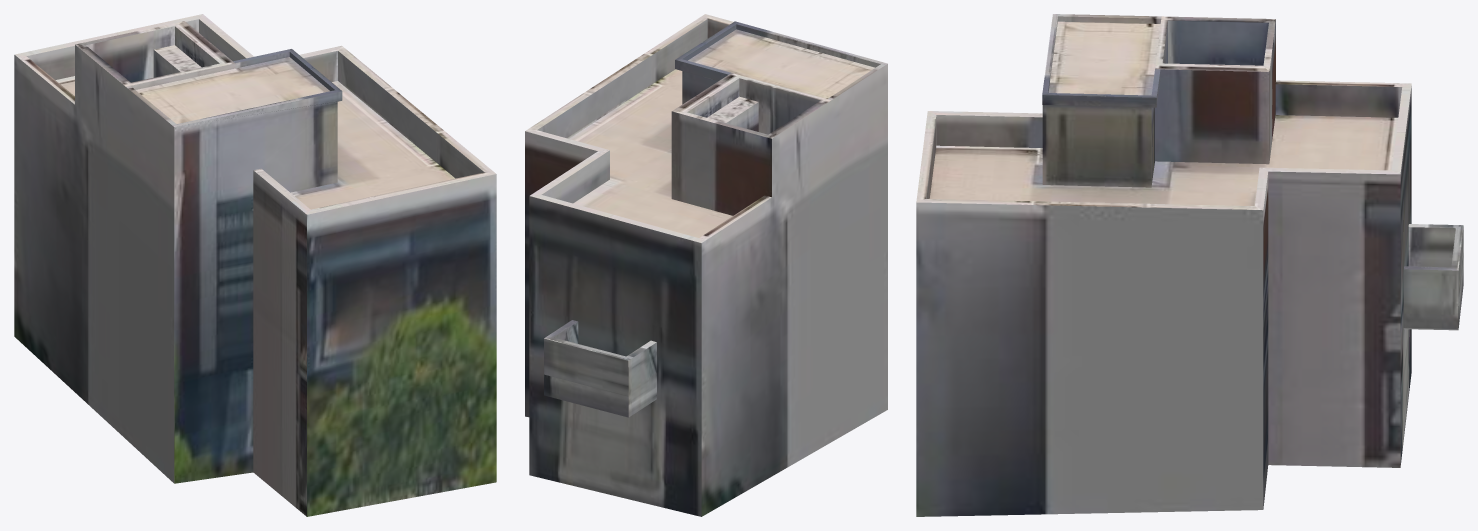
3 views of the same model, side by side, from view 1: azimuth 30°, elevation 25°; view 2: azimuth 150°, elevation 25°; view 3: azimuth 270°, elevation 25° (orthographic). The views are drawn at different scales.
Parts seen in each view (by area): view 1: B283444030701062A0; view 2: B283444030701062A0; view 3: B283444030701062A0.
Boxes of the visible parts, box(x1,y1,x2,y2) form: B283444030701062A0: box(14, 14, 496, 516); B283444030701062A0: box(525, 14, 887, 516); B283444030701062A0: box(916, 14, 1463, 516).
Bounding box in the file's own units: 8.74 × 11.37 × 15.
Materials: 1 (1 with a texture image).
